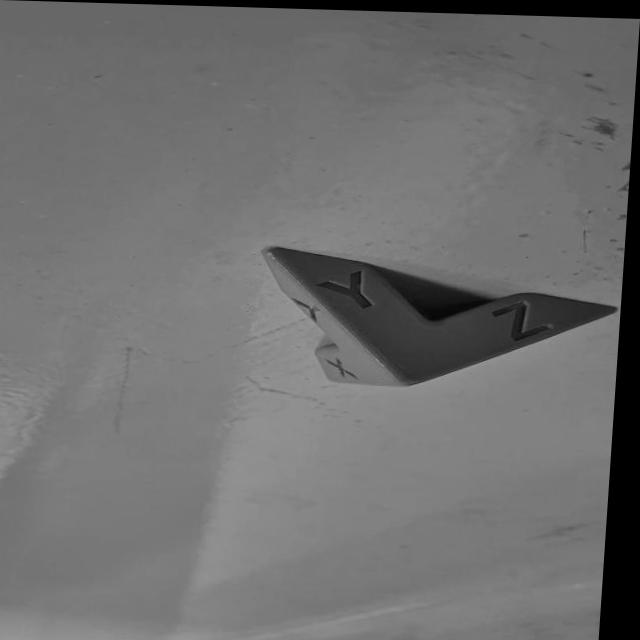eje: (245, 240, 624, 397)
